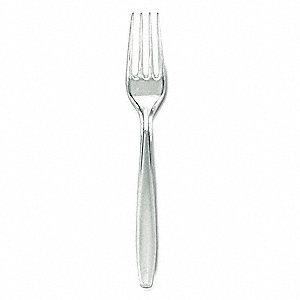Fork: (125, 11, 168, 289)
